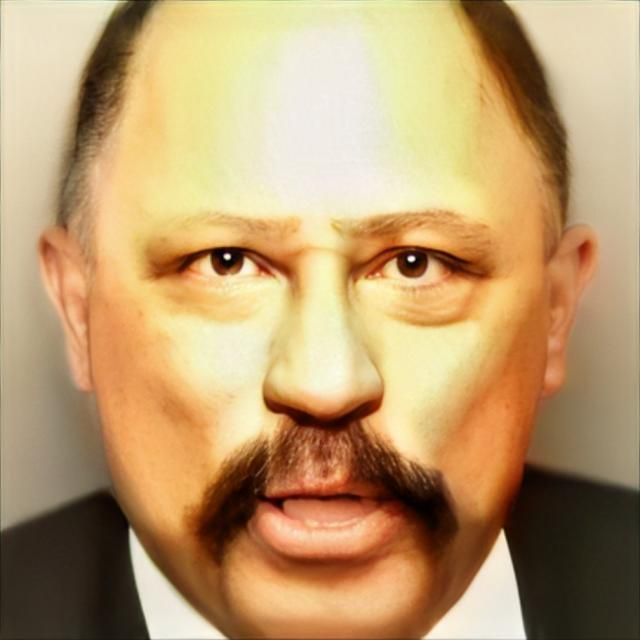anger: (92, 24, 553, 638)
